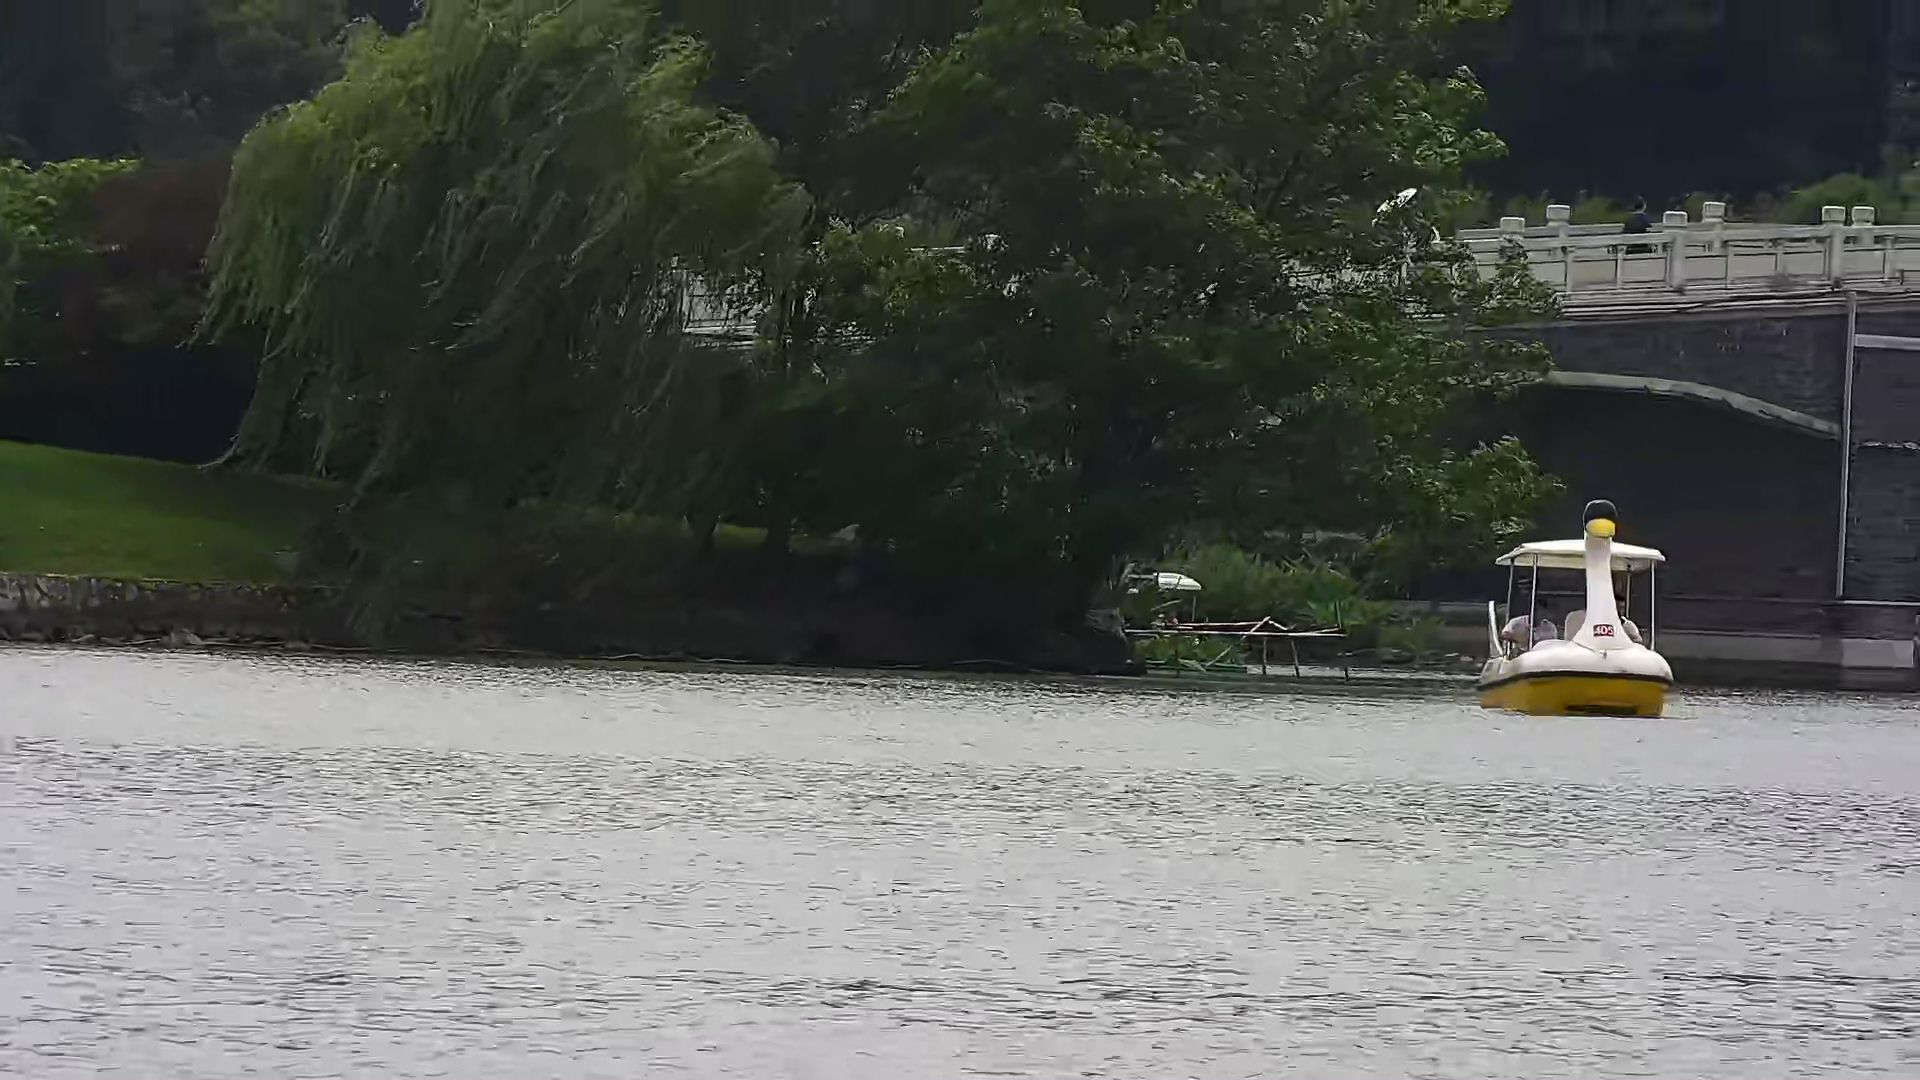boat: (1468, 492, 1684, 720)
bridge: (1414, 206, 1920, 454)
